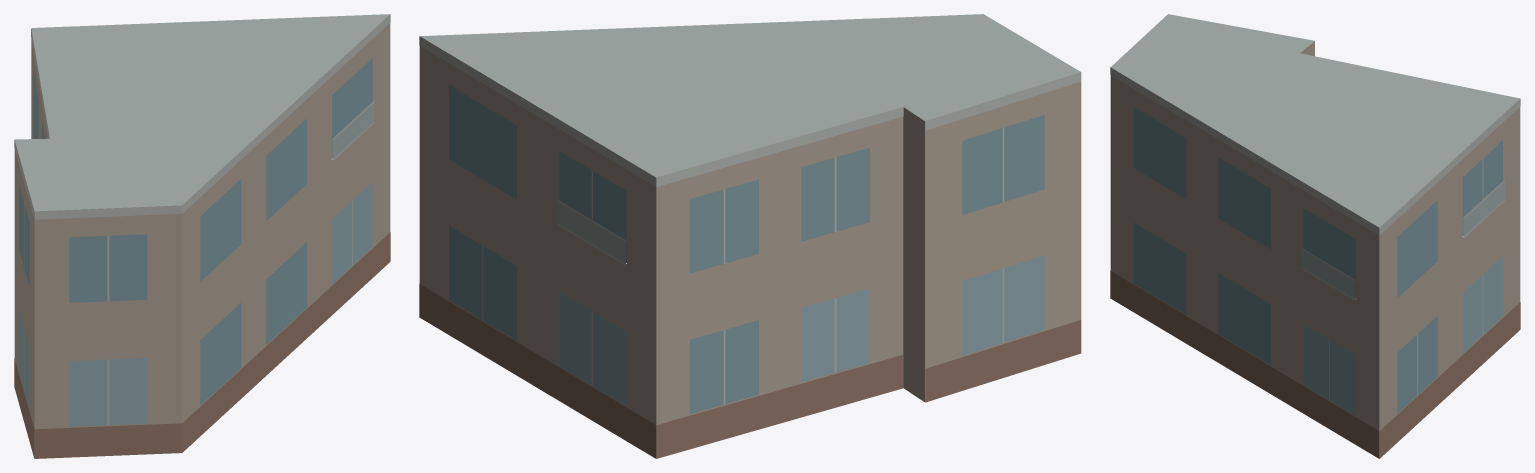
The model's file is survey-upis-32491902.glb.
3 renders of one model, left to right at view 1: azimuth 30°, elevation 25°; view 2: azimuth 150°, elevation 25°; view 3: azimuth 270°, elevation 25°, orthographic. The views are drawn at different scales.
Parts seen in each view (by area): view 1: survey-upis-32491902.tmp; view 2: survey-upis-32491902.tmp; view 3: survey-upis-32491902.tmp.
Part boxes in pixels (x1=…): survey-upis-32491902.tmp: x1=14, y1=14, x2=390, y2=458; survey-upis-32491902.tmp: x1=419, y1=14, x2=1081, y2=458; survey-upis-32491902.tmp: x1=1110, y1=14, x2=1520, y2=458.
Bounding box in the file's own units: 14.29 × 7.2 × 11.59.
